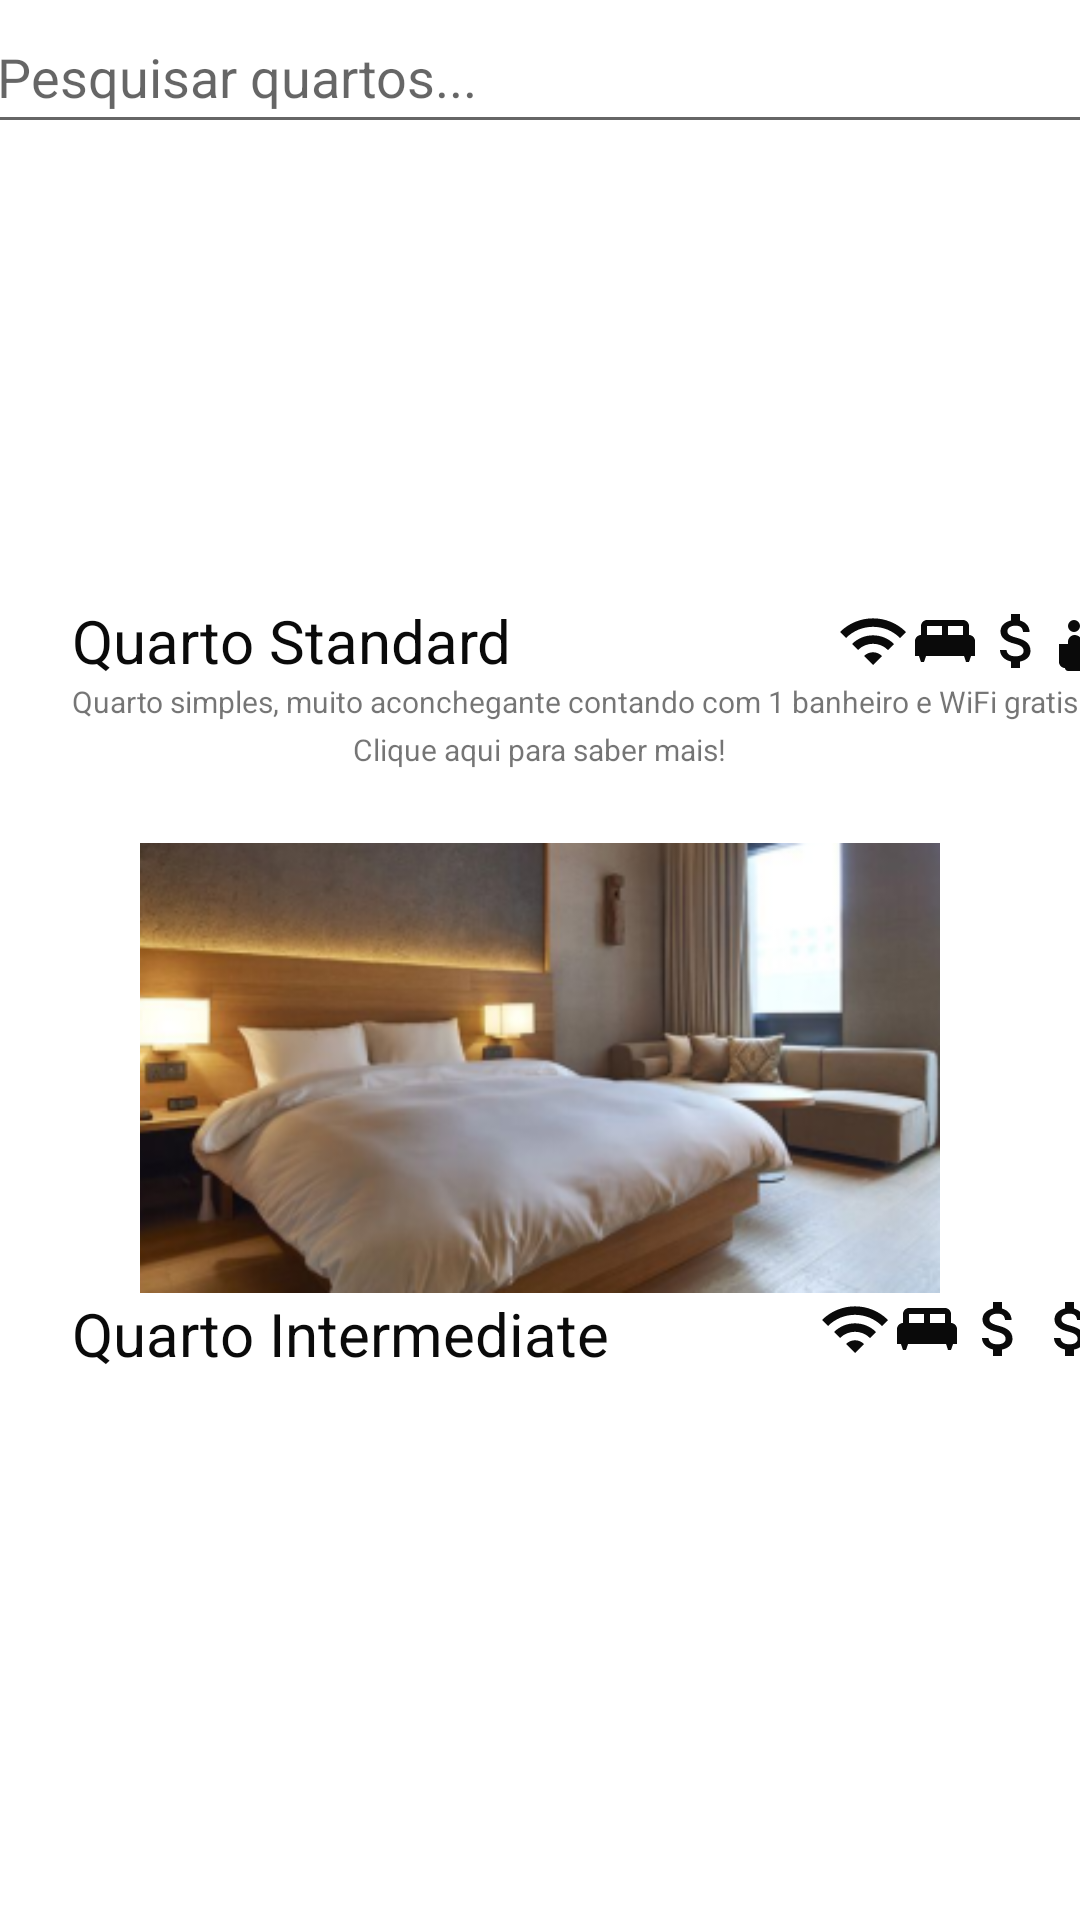

Point at icon controls on the screen. Image size 1080x1920, points as point (x, y).
king bed: point (945, 641), point (927, 1329)
